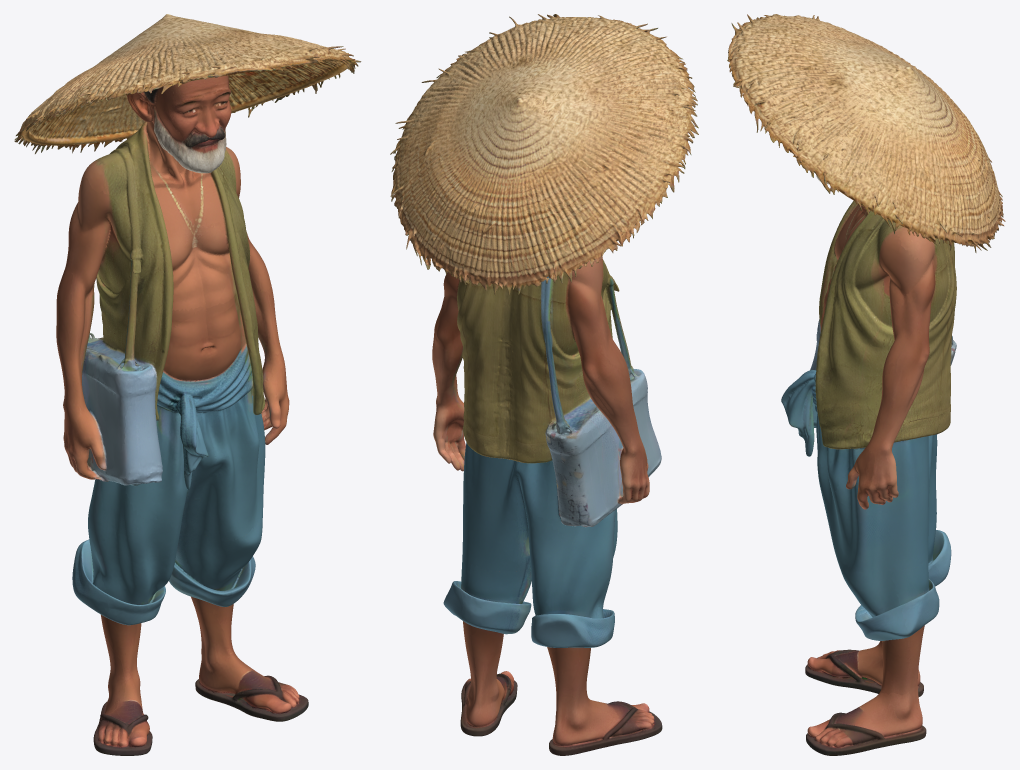
The model's file is Villager_Fisherman.glb.
The picture shows the model from 3 angles, left to right: view 1: azimuth 30°, elevation 25°; view 2: azimuth 150°, elevation 25°; view 3: azimuth 270°, elevation 25°; orthographic projection. The views are drawn at different scales.
Size of the model in its own units: 0.8497 by 1.9 by 0.7128.
1 material, 1 textured.
